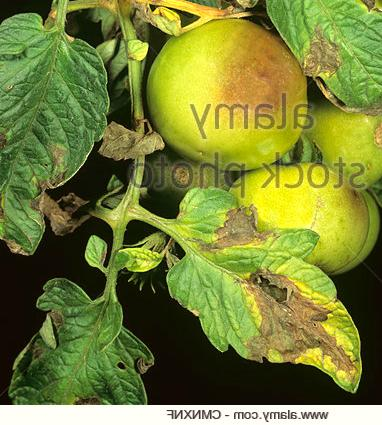Tomato leaf late blight: (152, 194, 367, 396), (0, 0, 116, 263), (229, 0, 382, 117)
